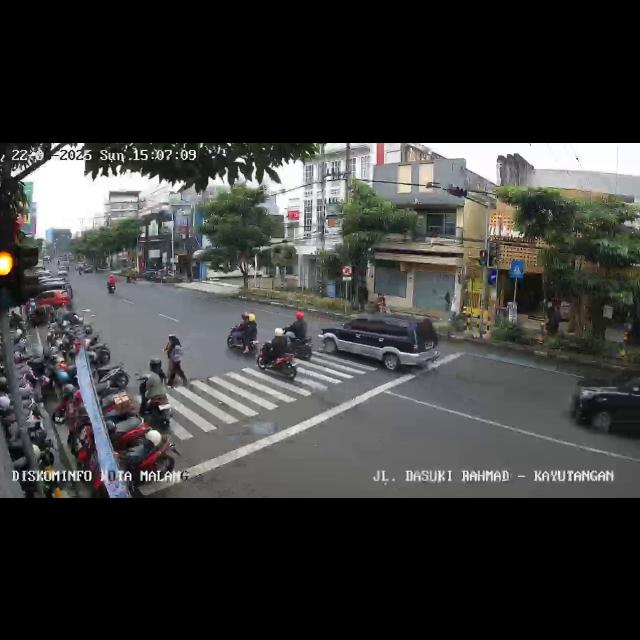car: (326, 310, 440, 374), (573, 366, 639, 446), (32, 276, 74, 312)
motorcycle: (260, 324, 298, 380), (144, 359, 172, 431), (282, 311, 314, 361), (226, 310, 258, 356), (105, 271, 118, 293)
person: (164, 332, 186, 393), (448, 296, 460, 322)
